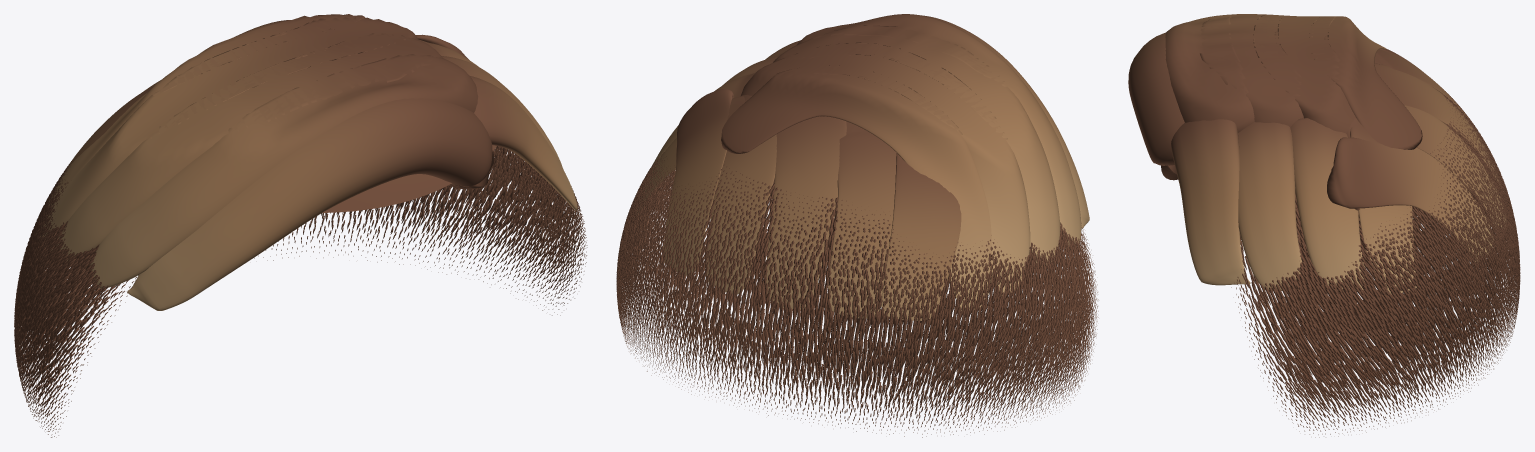
File: Masculine-taper-pashmina254-hair-ombre.glb
3 views of the same model, side by side, from view 1: azimuth 30°, elevation 25°; view 2: azimuth 150°, elevation 25°; view 3: azimuth 270°, elevation 25° (orthographic). The views are drawn at different scales.
Visible parts, largest first — view 1: 226 hair / Hair252 / sculpted locks, 226 hair / Hair252 / gentle tonal variation, 226 hair / Hair254 / rooted short groom; view 2: 226 hair / Hair252 / sculpted locks, 226 hair / Hair254 / rooted short groom, 226 hair / Hair252 / gentle tonal variation; view 3: 226 hair / Hair252 / sculpted locks, 226 hair / Hair254 / rooted short groom, 226 hair / Hair252 / gentle tonal variation.
Part boxes in pixels (bbox=[...]): 226 hair / Hair252 / sculpted locks: bbox=[36, 14, 562, 288]; 226 hair / Hair252 / gentle tonal variation: bbox=[127, 76, 577, 310]; 226 hair / Hair254 / rooted short groom: bbox=[14, 145, 587, 437]; 226 hair / Hair252 / sculpted locks: bbox=[634, 14, 1081, 320]; 226 hair / Hair254 / rooted short groom: bbox=[616, 149, 1098, 437]; 226 hair / Hair252 / gentle tonal variation: bbox=[765, 15, 1089, 318]; 226 hair / Hair252 / sculpted locks: bbox=[1165, 14, 1506, 294]; 226 hair / Hair254 / rooted short groom: bbox=[1231, 88, 1520, 437]; 226 hair / Hair252 / gentle tonal variation: bbox=[1128, 32, 1467, 285].
Size of the model in its own units: 0.9716 by 0.6131 by 0.7405.
